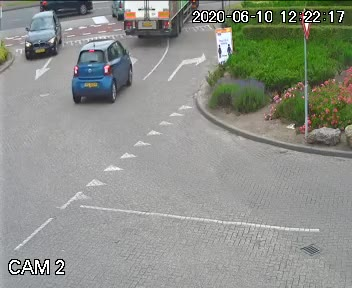car: (74, 35, 128, 107), (117, 0, 195, 49), (21, 1, 69, 67), (39, 0, 98, 18)
